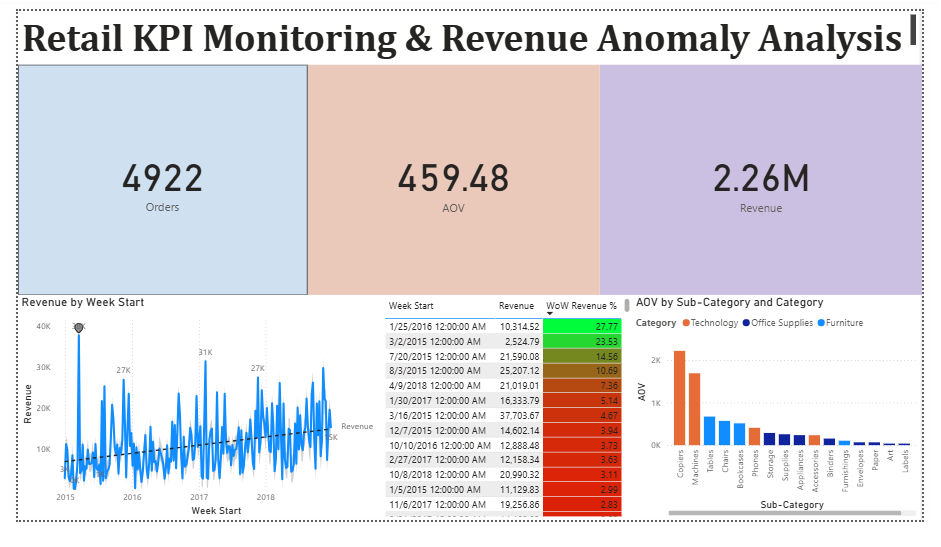

This screenshot's page, from the dashboard's own definition file:
{"tool":"powerbi","page":{"name":"Page 1","canvas":[1280,720],"ordinal":0},"visuals":[{"type":"card","fields":{"Values":["RAW DATA.Orders"]},"box":[0,75,410,326.7],"z":0},{"type":"card","fields":{"Values":["RAW DATA.Revenue"]},"box":[823.3,75,456.7,326.7],"z":1000},{"type":"card","fields":{"Values":["RAW DATA.AOV"]},"box":[410,75,413.3,326.7],"z":2000},{"type":"lineChart","fields":{"Y":["RAW DATA.Revenue"],"Category":["Date.Week Start"]},"box":[0,401.6,514.1,318.4],"z":3000},{"type":"tableEx","fields":{"Values":["Date.Week Start","RAW DATA.Revenue","RAW DATA.WoW Revenue %"]},"box":[514.1,401.6,357.8,318.4],"z":4000},{"type":"lineStackedColumnComboChart","fields":{"Category":["RAW DATA.Sub-Category"],"Y":["RAW DATA.AOV"],"Series":["RAW DATA.Category"]},"box":[870.4,401.6,407.5,318.4],"z":5000},{"type":"textbox","box":[0,0,1276.8,75.4],"z":6000}]}

Visuals, with their boxes on the page's 1280x720 design canvas (x1, y1, x2, y2). These are canvas units, not pixel positions in the 941x547 screenshot, which may show the page scaled, cropped or inside an application window:
card - RAW DATA.Orders: (0, 75, 410, 402)
card - RAW DATA.Revenue: (823, 75, 1280, 402)
card - RAW DATA.AOV: (410, 75, 823, 402)
lineChart - RAW DATA.Revenue x Date.Week Start: (0, 402, 514, 720)
tableEx - Date.Week Start x RAW DATA.Revenue: (514, 402, 872, 720)
lineStackedColumnComboChart - RAW DATA.Sub-Category x RAW DATA.AOV: (870, 402, 1278, 720)
textbox: (0, 0, 1277, 75)
